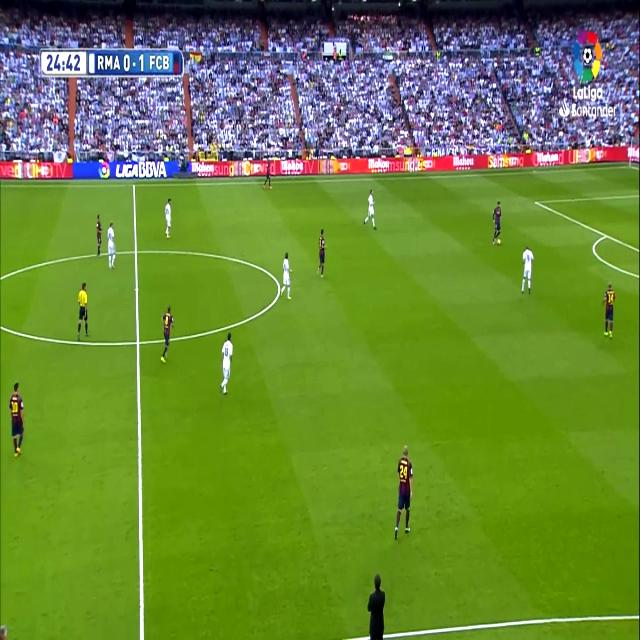bigarea_top_inner: (532, 196, 538, 208)
corner: (626, 160, 634, 171)
halfcircle_bottom: (132, 330, 144, 354)
halfcircle_top: (132, 242, 140, 260)
midline_top_intersection: (131, 179, 137, 191)
top_arc_area_intersection: (602, 226, 610, 242)
